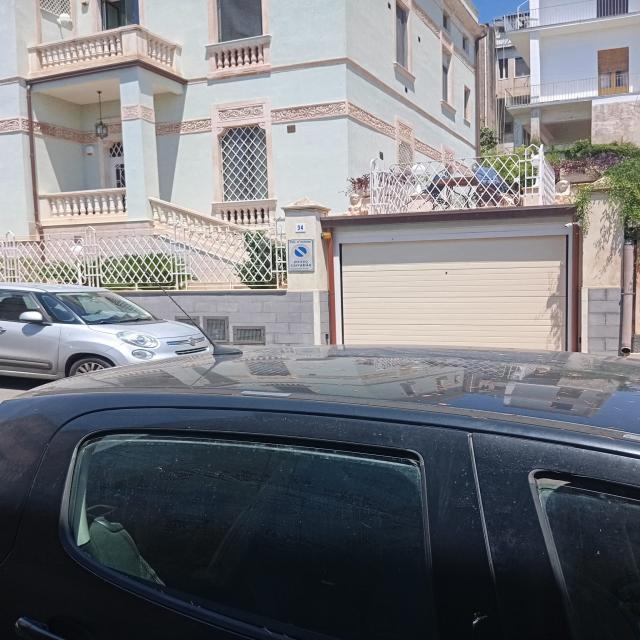forb_stopping: (292, 245, 310, 259)
